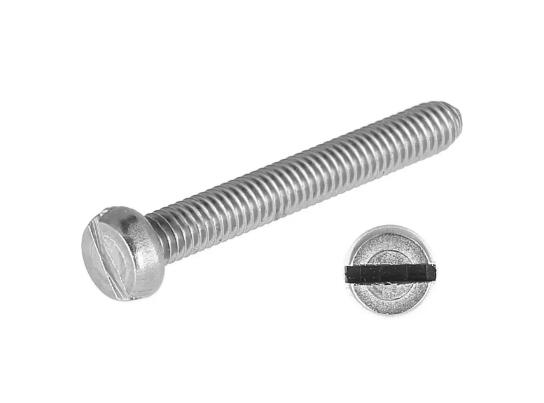slotted: (348, 225, 435, 315)
